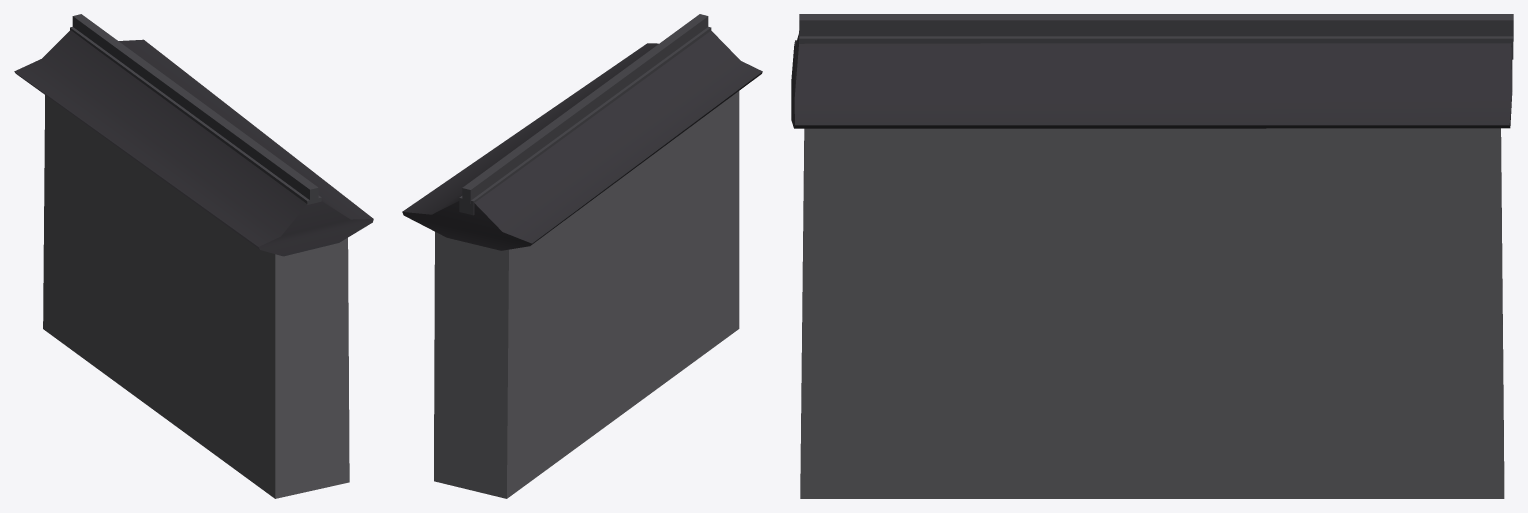
Rendered from castle_fence_wall.fbx.
The picture shows the model from 3 angles, left to right: view 1: azimuth 30°, elevation 25°; view 2: azimuth 150°, elevation 25°; view 3: azimuth 270°, elevation 25°; orthographic projection. The views are drawn at different scales.
Parts seen in each view (by area): view 1: castle_fence_wall; view 2: castle_fence_wall; view 3: castle_fence_wall.
Boxes of the visible parts, x1,y1,x2,y2 form: castle_fence_wall: (14, 14, 373, 498); castle_fence_wall: (402, 14, 762, 498); castle_fence_wall: (791, 14, 1513, 498).
Size of the model in its own units: 411 by 916 by 1316.
